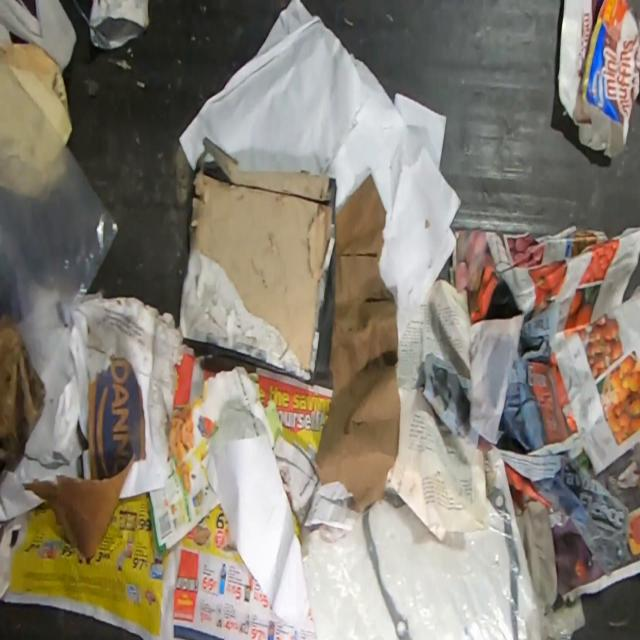cardboard: (179, 135, 338, 389), (76, 289, 185, 499), (557, 0, 640, 159), (0, 313, 47, 486)
soft_plastic: (301, 457, 541, 640), (0, 59, 118, 376), (514, 500, 586, 640), (88, 0, 149, 51)
